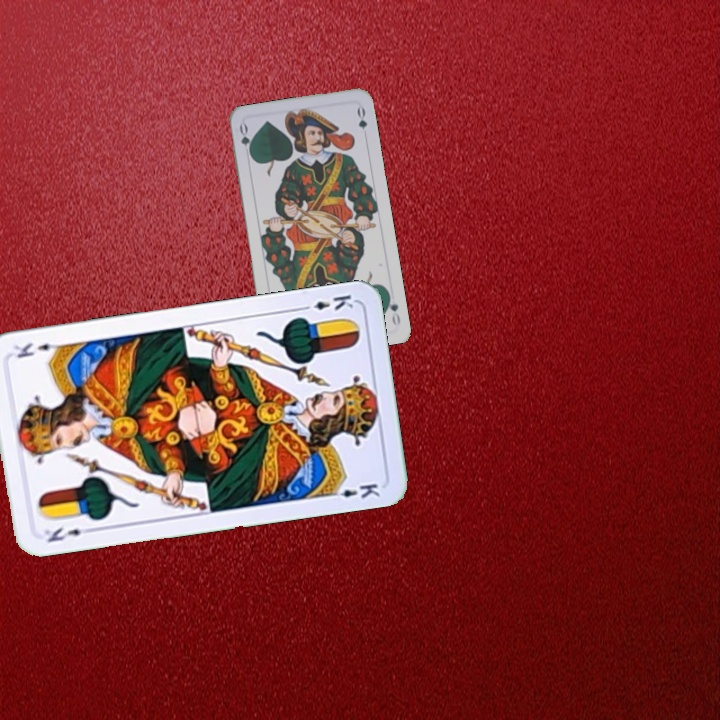EK: (296, 290, 356, 313), (41, 523, 96, 545)
GO: (235, 120, 255, 160), (383, 288, 403, 328)
